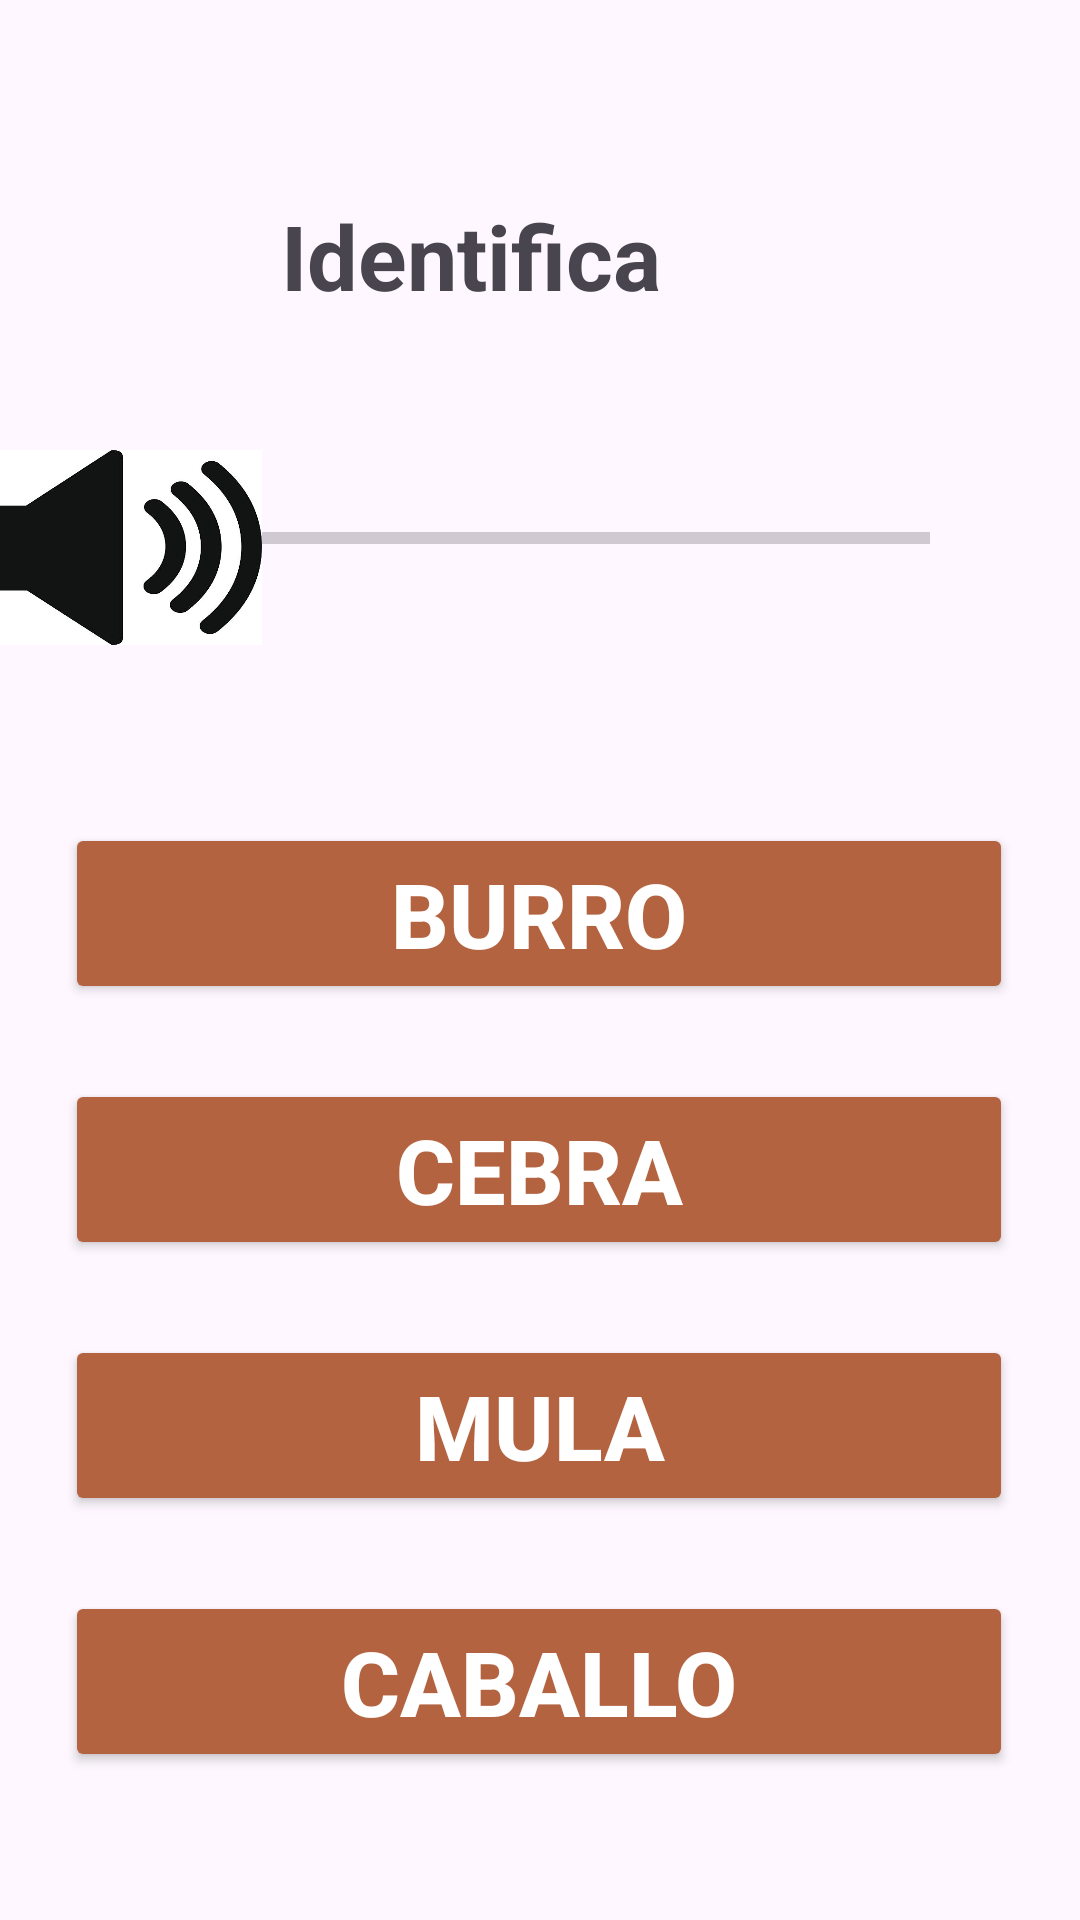

Locate icon controls on the screen. Image size 1080px x 1920px, boxes as (x1, y1, x2, y2).
audio: (0, 450, 222, 645)
